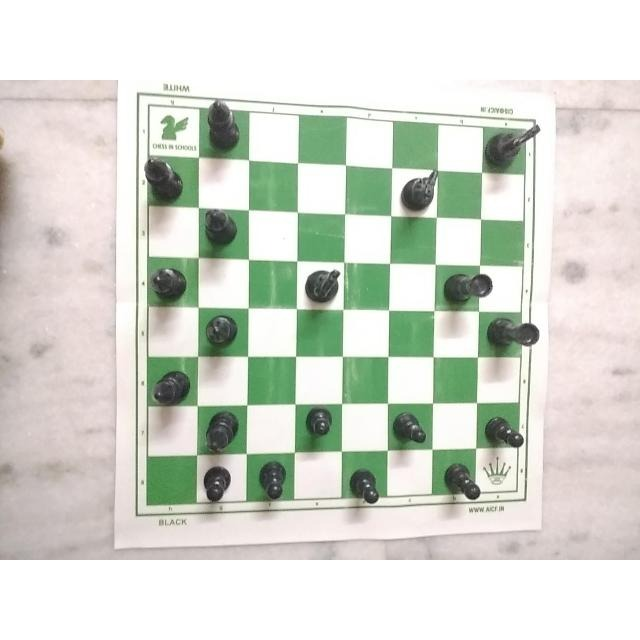black-bishop: (140, 362, 203, 411), (202, 94, 246, 162), (140, 152, 188, 203), (149, 255, 194, 305), (202, 409, 249, 456), (197, 312, 243, 353), (199, 205, 241, 249)
black-knight: (479, 118, 543, 172), (298, 262, 345, 310), (395, 167, 441, 214)
black-pawn: (193, 466, 245, 516), (293, 402, 342, 450), (472, 413, 528, 454), (442, 455, 487, 504), (388, 407, 436, 451), (345, 463, 388, 509), (254, 458, 292, 510)
black-rook: (438, 262, 489, 312), (486, 316, 544, 355)
